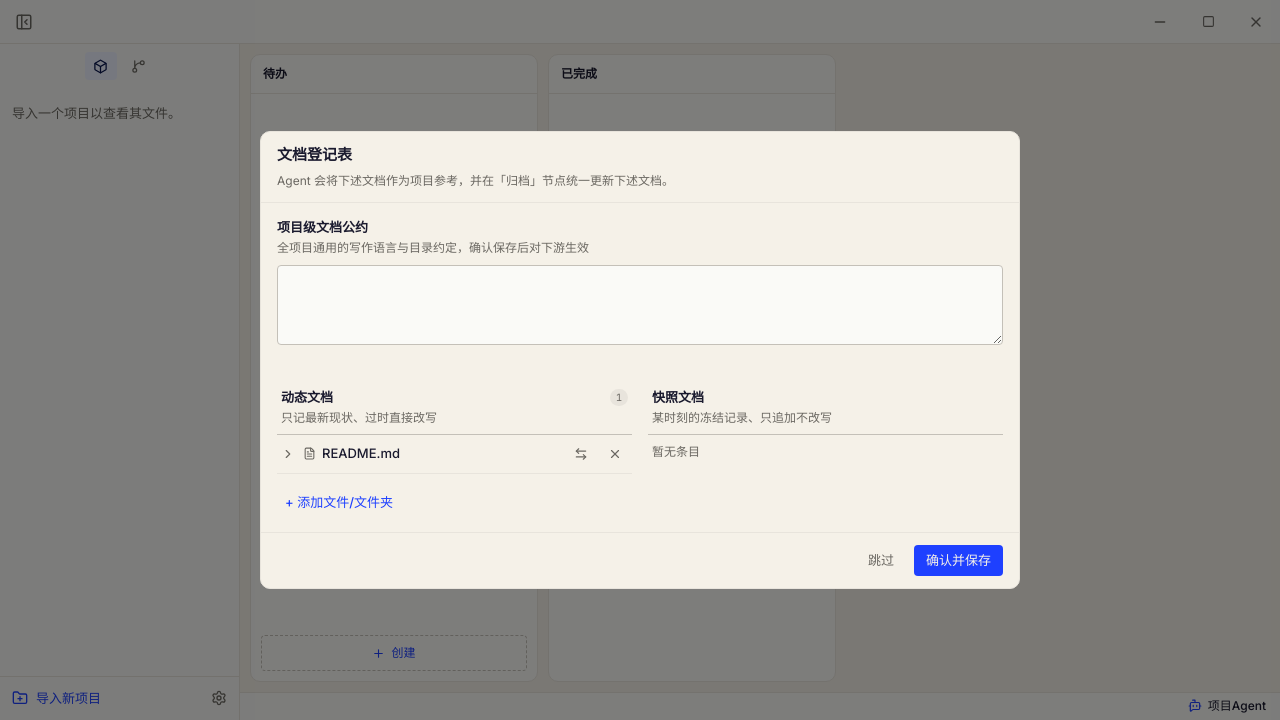
Test case: App 工作流提案主动露出 › 文档 onboarding 开着时收到就绪推送不叠加，待其关闭再打开对话面板
Check: the dialog "文档登记表" is shown, box [260,131,1020,590]
// 关闭文档 onboarding（跳过）→ 协调器出队 → 对话面板这才打开并选中该会话。
Click the button "跳过". click: [881, 561]
box: [856,545,906,576]
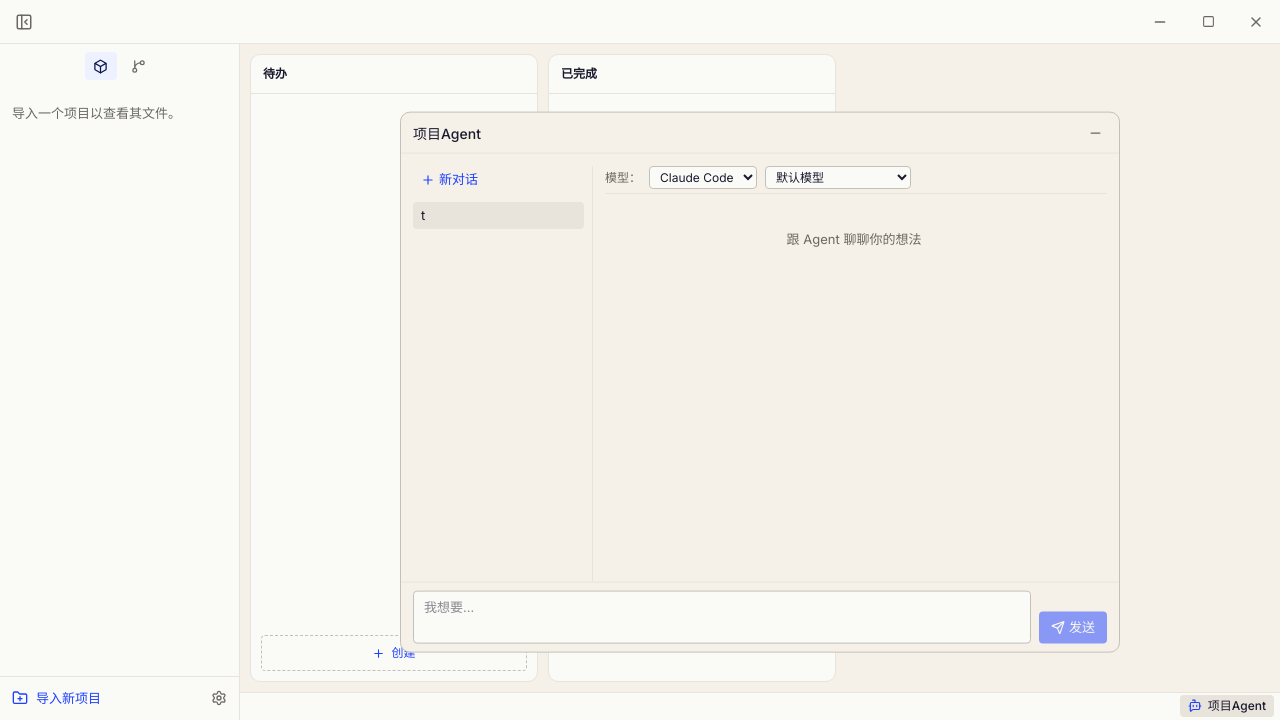
Check: the heading "文档登记表" is gone
